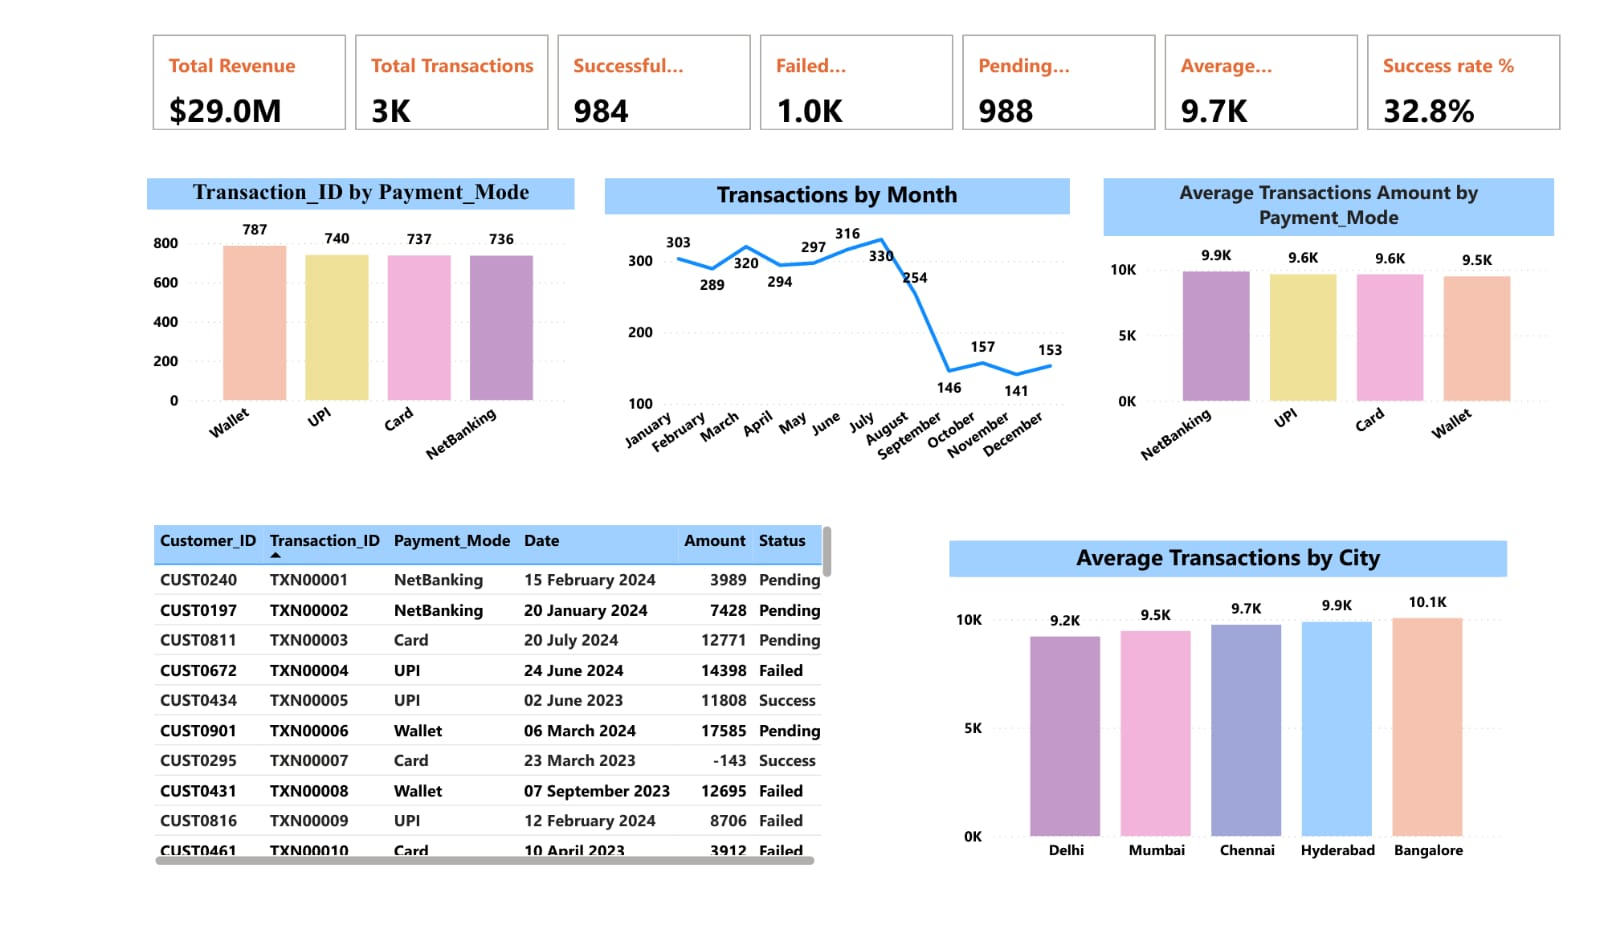

The dashboard page shown, as its layout file describes it:
{"tool":"powerbi","page":{"name":"FinTech Analytics","canvas":[1280,720],"ordinal":3},"visuals":[{"type":"cardVisual","fields":{"Data":["Measure.Total Revenue","Measure.Total Transactions","Measure.Successful Transaction","Measure.Failed Transactions","Measure.Pending Transaction","Measure.Average Transactions","Measure.Success rate %"]},"box":[97.9,0,1181.8,89],"z":0},{"type":"clusteredColumnChart","title":"Transaction_ID by Payment_Mode","fields":{"Category":["Transactions.Payment_Mode"],"Y":["CountNonNull(Transactions.Transaction_ID)"]},"box":[97.8,124.4,355.6,254.2],"z":1000},{"type":"clusteredColumnChart","title":"Average Transactions Amount by Payment_Mode","fields":{"Category":["Transactions.Payment_Mode"],"Y":["Measure.Average Transactions"]},"box":[892.4,124.4,373.3,254.2],"z":2000},{"type":"lineChart","title":" Transactions by Month","fields":{"Category":["Calendar table.Month"],"Y":["Measure.Total Transactions"]},"box":[478.2,124.4,385.8,254.2],"z":3000},{"type":"tableEx","fields":{"Values":["Transactions.Customer_ID","Transactions.Transaction_ID","Transactions.Payment_Mode","Transactions.Date","Transactions.Amount","Transactions.Status"]},"box":[97.8,407.1,574.2,293.3],"z":5000},{"type":"clusteredColumnChart","title":"Average Transactions by City","fields":{"Y":["Measure.Average Transactions"],"Category":["Customers.City"]},"box":[764.4,424.9,462.2,275.6],"z":6000}]}

Visuals, with their boxes in screenshot pixels (x1, y1, x2, y2), scaled from the page's 1280x720 canvas onto the 1600x925 screenshot:
cardVisual - Measure.Total Revenue x Measure.Total Transactions: locate(122, 0, 1599, 114)
"Transaction_ID by Payment_Mode" clusteredColumnChart: locate(122, 160, 567, 486)
"Average Transactions Amount by Payment_Mode" clusteredColumnChart: locate(1116, 160, 1582, 486)
" Transactions by Month" lineChart: locate(598, 160, 1080, 486)
tableEx - Transactions.Customer_ID x Transactions.Transaction_ID: locate(122, 523, 840, 900)
"Average Transactions by City" clusteredColumnChart: locate(956, 546, 1533, 900)
